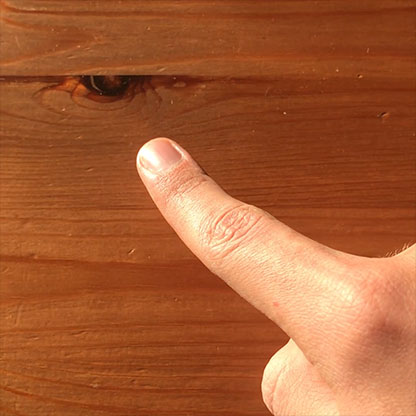fingertip: (130, 130, 199, 193)
